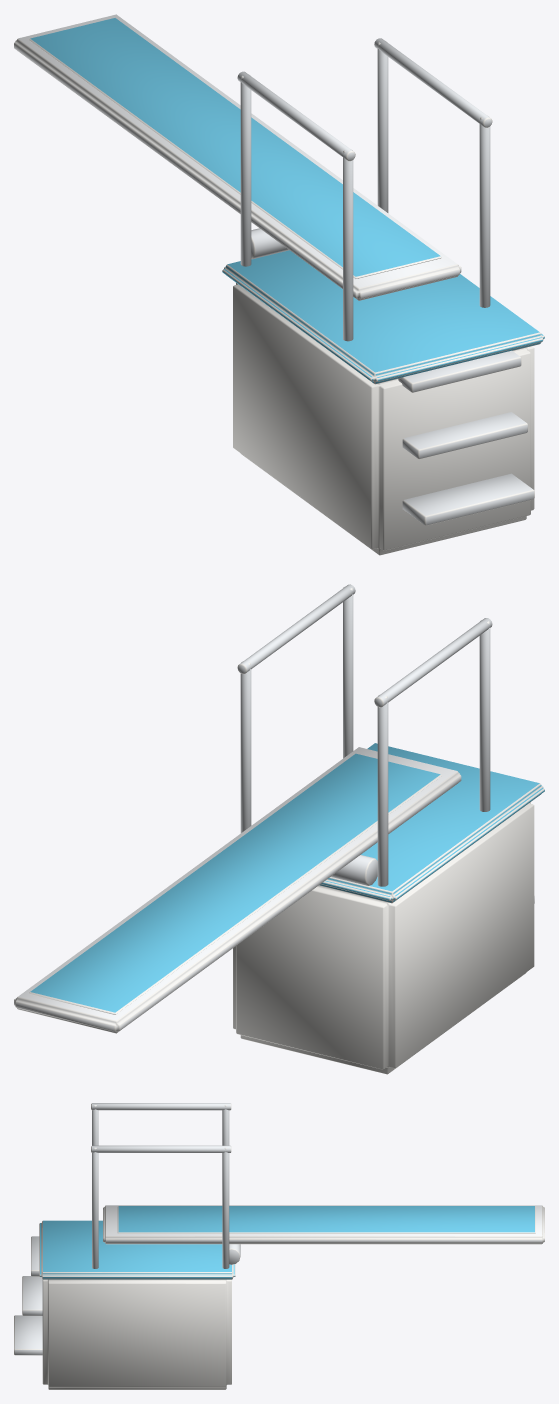
The model's file is OW_DivingBoard.fbx.
3 views of the same model, one above another, from view 1: azimuth 30°, elevation 25°; view 2: azimuth 150°, elevation 25°; view 3: azimuth 270°, elevation 25° (orthographic). The views are drawn at different scales.
Parts seen in each view (by area): view 1: OW_DivingBoard; view 2: OW_DivingBoard; view 3: OW_DivingBoard.
Boxes of the visible parts, left/top/right/bottom form: OW_DivingBoard: left=14, top=14, right=544, bottom=555; OW_DivingBoard: left=14, top=584, right=544, bottom=1074; OW_DivingBoard: left=14, top=1103, right=544, bottom=1389.
Bounding box in the file's own units: 92 × 191 × 379.
